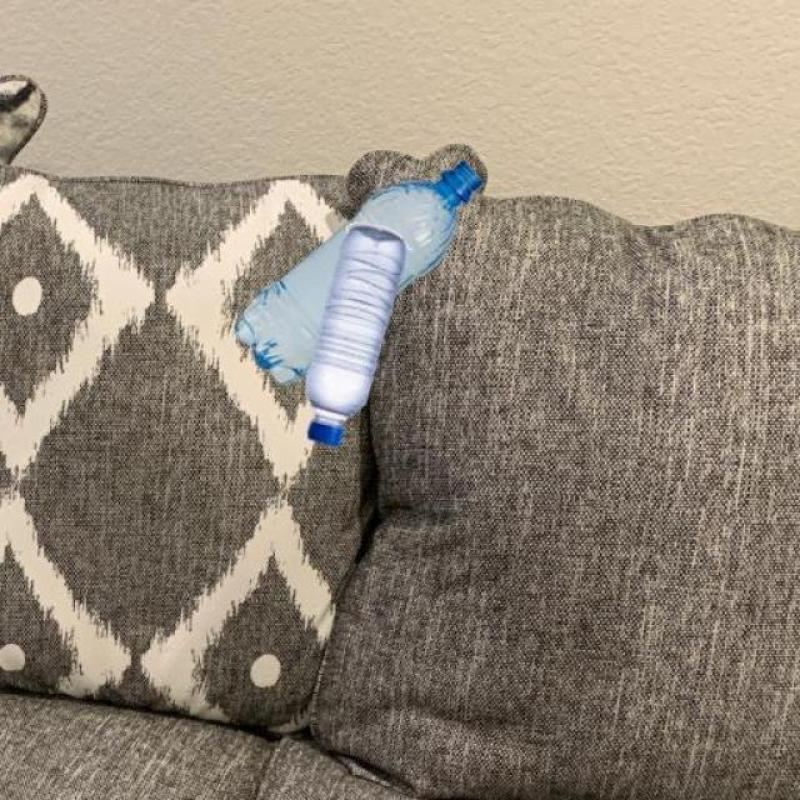botella: (235, 161, 485, 384), (304, 226, 408, 450)
